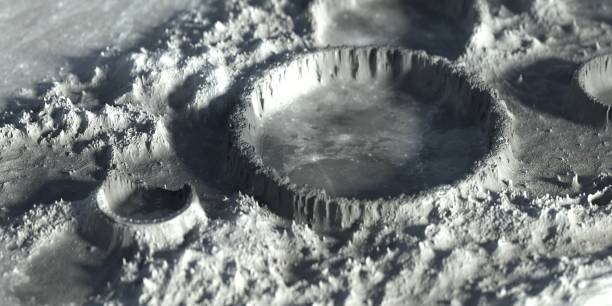crater: (229, 45, 517, 228), (97, 175, 199, 241)
